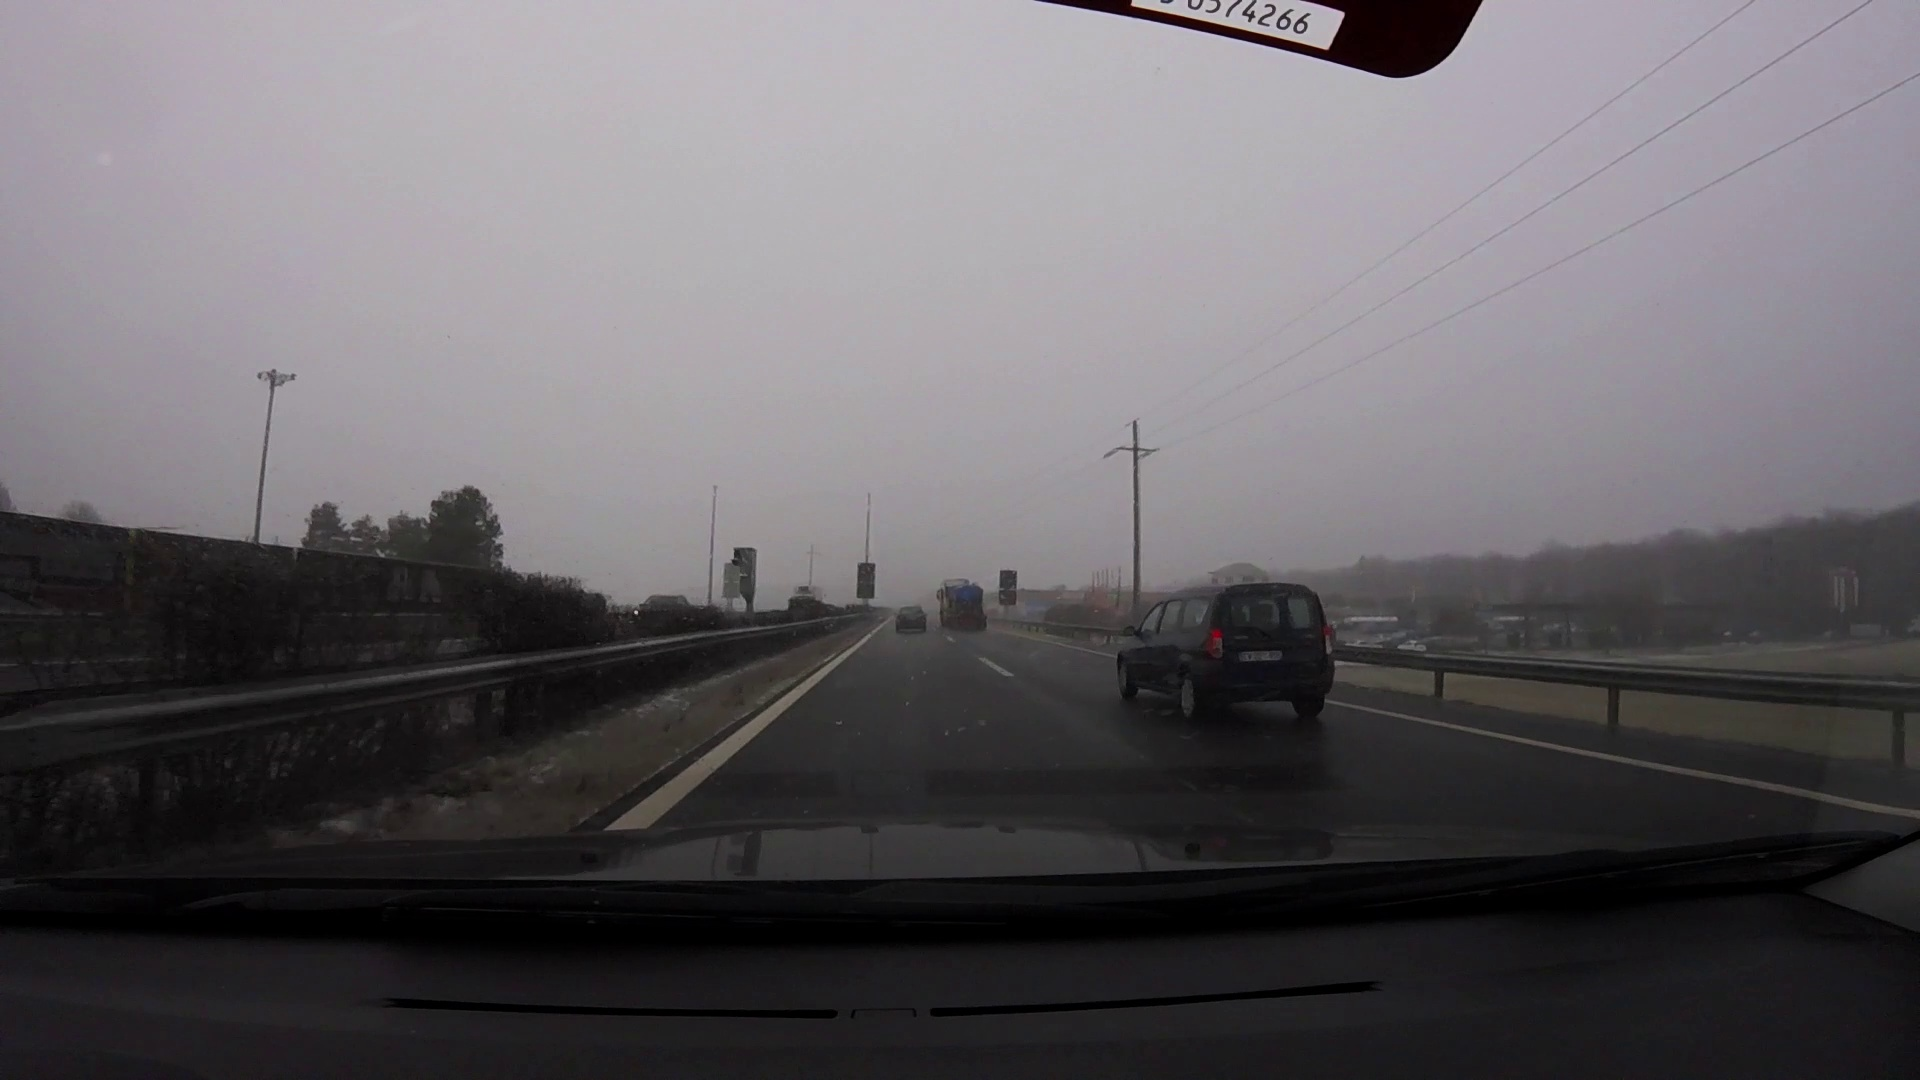radar: (729, 545, 760, 608)
